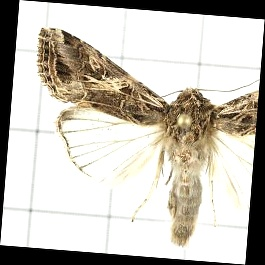Spodoptera litura: (29, 34, 255, 244)
